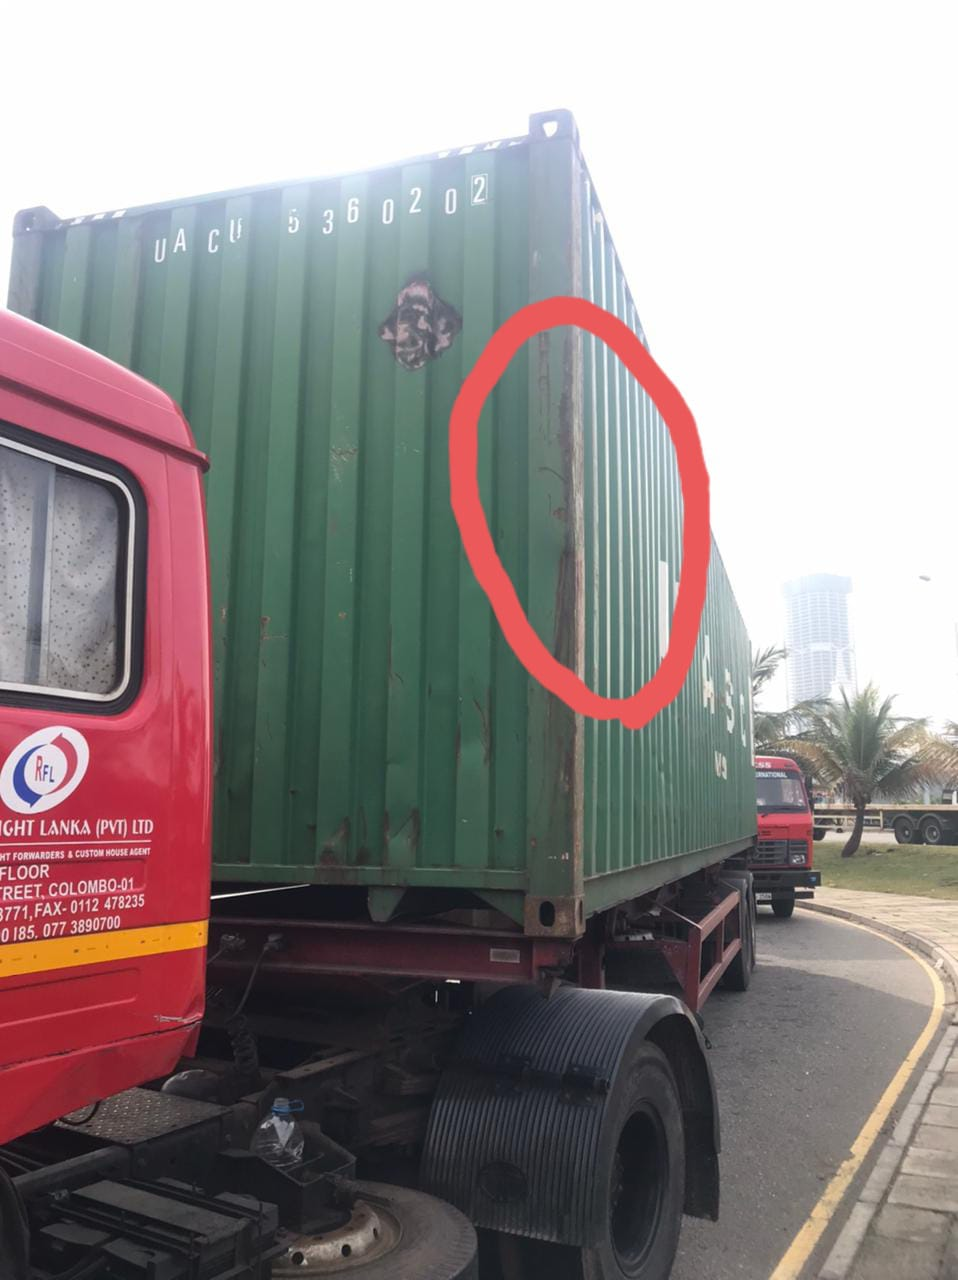front_side: (6, 125, 574, 936)
left_side: (548, 165, 758, 924)
